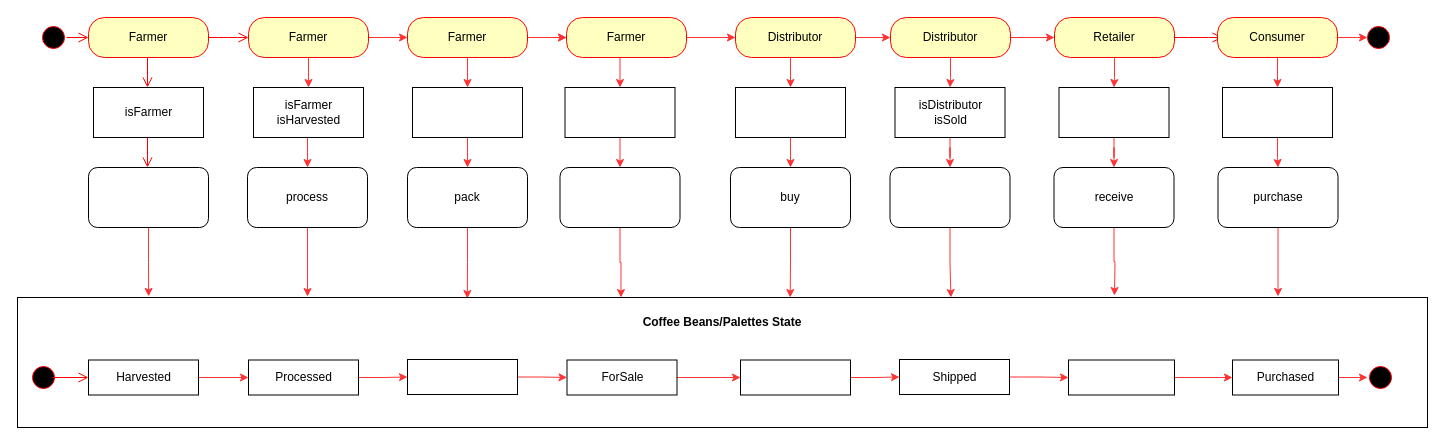
Image size: 1445x445. Some labels were removed from this diagram. Each missing label, with the box of its shape:
harvest: (88, 166, 208, 228)
isConsumer isReceived: (1222, 86, 1332, 138)
isFarmer isPacked: (564, 86, 675, 138)
isFarmer isPorcessed: (412, 86, 522, 138)
isForSale isPaidEnough: (734, 86, 846, 138)
isRetailer isShipped: (1058, 86, 1169, 138)
Packed: (406, 358, 518, 394)
Received: (1068, 359, 1174, 395)
sell: (559, 166, 680, 228)
ship: (889, 166, 1010, 228)
Sold: (740, 359, 850, 395)
